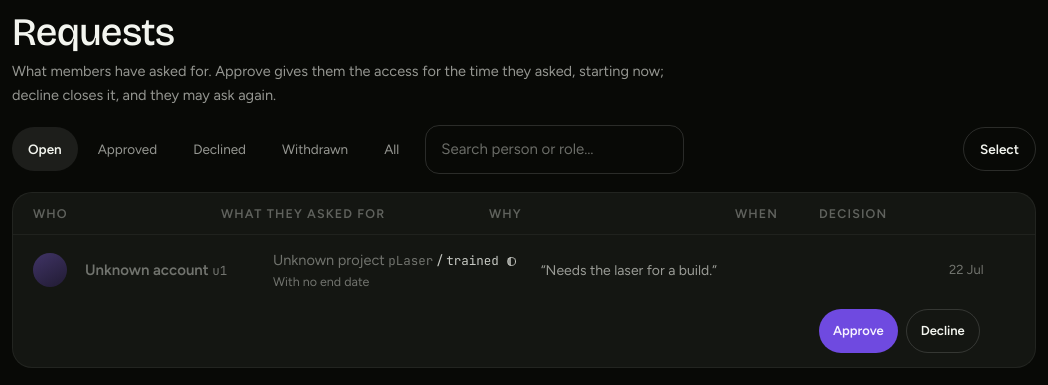
Test: a decided request names its person and its next step › declining says Nothing was sent — it never reached Zitadel
Click the button "Decline".
click(943, 331)  # box top-left (906, 309), bottom-right (980, 353)
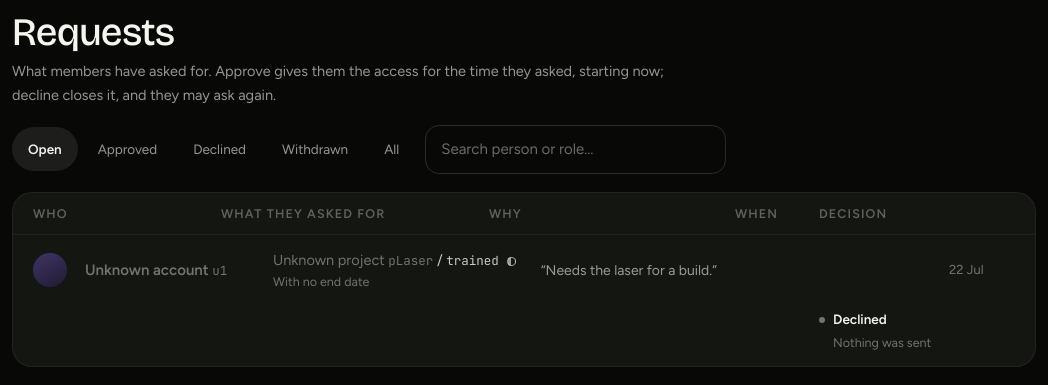
Check: the message reads "Declined Nothing was sent", box top-left (819, 311), bottom-right (931, 350)
